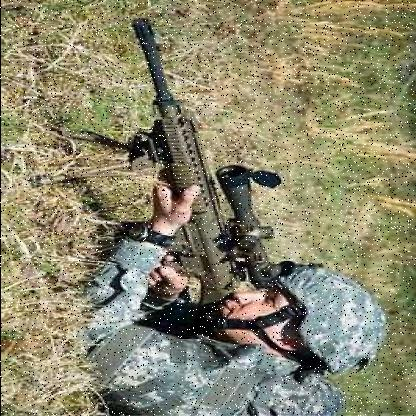rifle: (97, 21, 291, 335)
